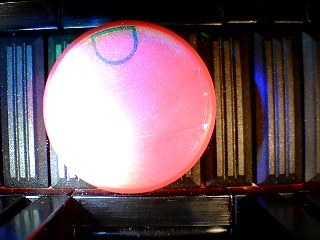MIPO1: (41, 20, 217, 194)
